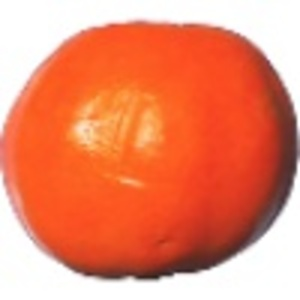tangerina: (2, 18, 300, 283)
